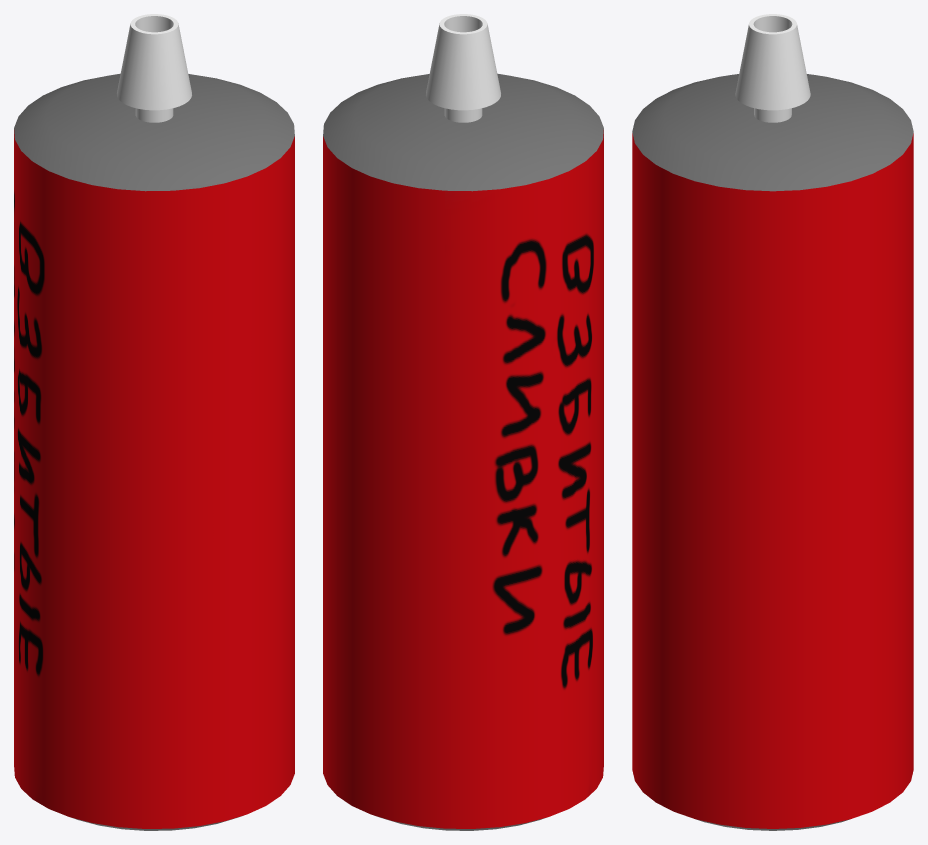
Rendered from cream.dae.
3 views of the same model, side by side, from view 1: azimuth 30°, elevation 25°; view 2: azimuth 150°, elevation 25°; view 3: azimuth 270°, elevation 25° (orthographic).
Parts seen in each view (by area): view 1: Cream; view 2: Cream; view 3: Cream.
Boxes of the visible parts, left/top/right/bottom form: Cream: left=14, top=14, right=294, bottom=830; Cream: left=323, top=14, right=603, bottom=830; Cream: left=632, top=14, right=913, bottom=830.
Bounding box in the file's own units: 2 × 2 × 5.91.
